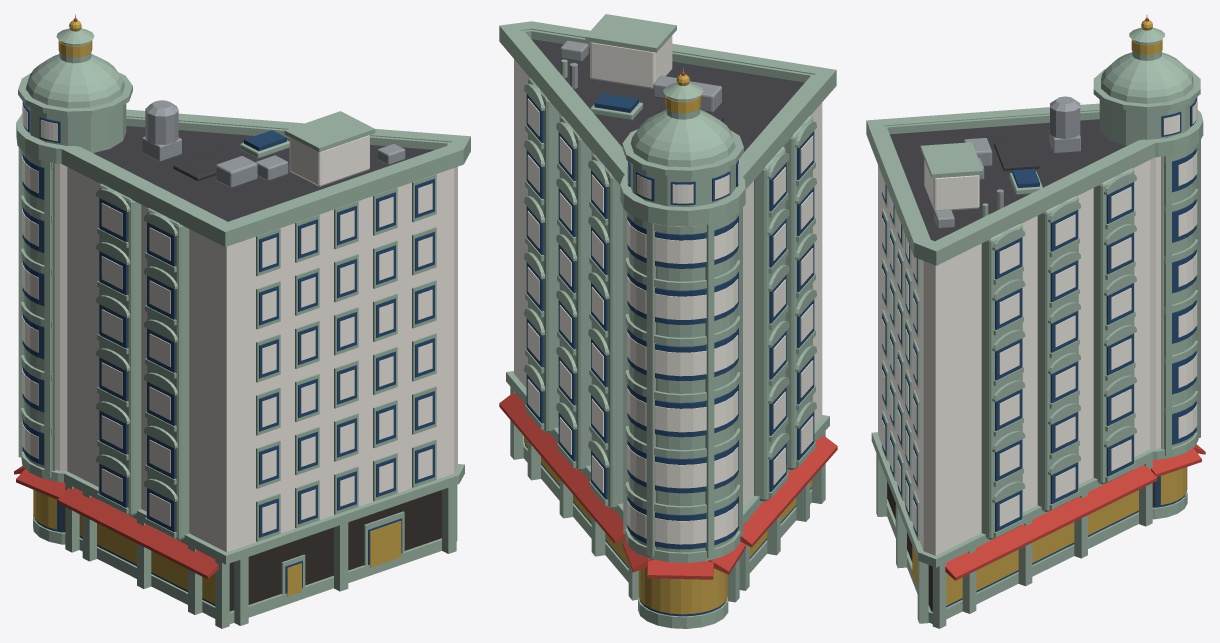
File: columbus-tower.glb
3 views of the same model, side by side, from view 1: azimuth 30°, elevation 25°; view 2: azimuth 150°, elevation 25°; view 3: azimuth 270°, elevation 25° (orthographic). The views are drawn at different scales.
Parts seen in each view (by area): view 1: body, main_cornice, roof_deck, storefront, bay_c1, bay_c0, belt_course, dome, kickplate, awning_2, penthouse, apex_pilaster_210 (+23 smaller); view 2: main_cornice, body, roof_deck, apex_cladding, bay_c1, bay_k0, bay_k1, bay_k2, dome, bay_c0, awning_16, store_glow_apex (+41 smaller); view 3: body, main_cornice, roof_deck, bay_k1, bay_k0, bay_k2, awning_16, dome, store_glow_16, belt_course, kickplate, parapet (+39 smaller).
Part boxes in pixels (x1,y1,x2,y2): body: (55,163,457,552); main_cornice: (16,109,470,246); roof_deck: (93,126,434,221); storefront: (63,490,441,611); bay_c1: (98,183,141,515); bay_c0: (146,208,189,540); belt_course: (21,452,464,564); dome: (26,54,124,108); kickplate: (33,514,441,623); awning_2: (57,487,218,579); penthouse: (289,135,369,186); apex_pilaster_210: (44,161,52,477); main_cornice: (499,21,836,226); body: (514,59,822,507); roof_deck: (531,39,804,151); apex_cladding: (629,229,737,552); bay_c1: (754,146,785,501); bay_k0: (592,154,622,508); bay_k1: (560,116,590,470); bay_k2: (528,78,558,432); dome: (630,110,735,167); bay_c0: (783,115,812,469); awning_16: (499,392,625,544); store_glow_apex: (638,567,727,614); body: (878,156,1161,555); main_cornice: (866,103,1203,265); roof_deck: (890,119,1126,241); bay_k1: (1037,196,1078,511); bay_k0: (1093,168,1134,484); bay_k2: (981,224,1022,539); awning_16: (945,465,1157,580); dome: (1101,52,1193,103); store_glow_16: (946,490,1138,605); belt_course: (871,432,1198,567); kickplate: (887,491,1187,623); parapet: (884,110,1140,242).
Size of the model in its own units: 19.88 by 29 by 18.25.
